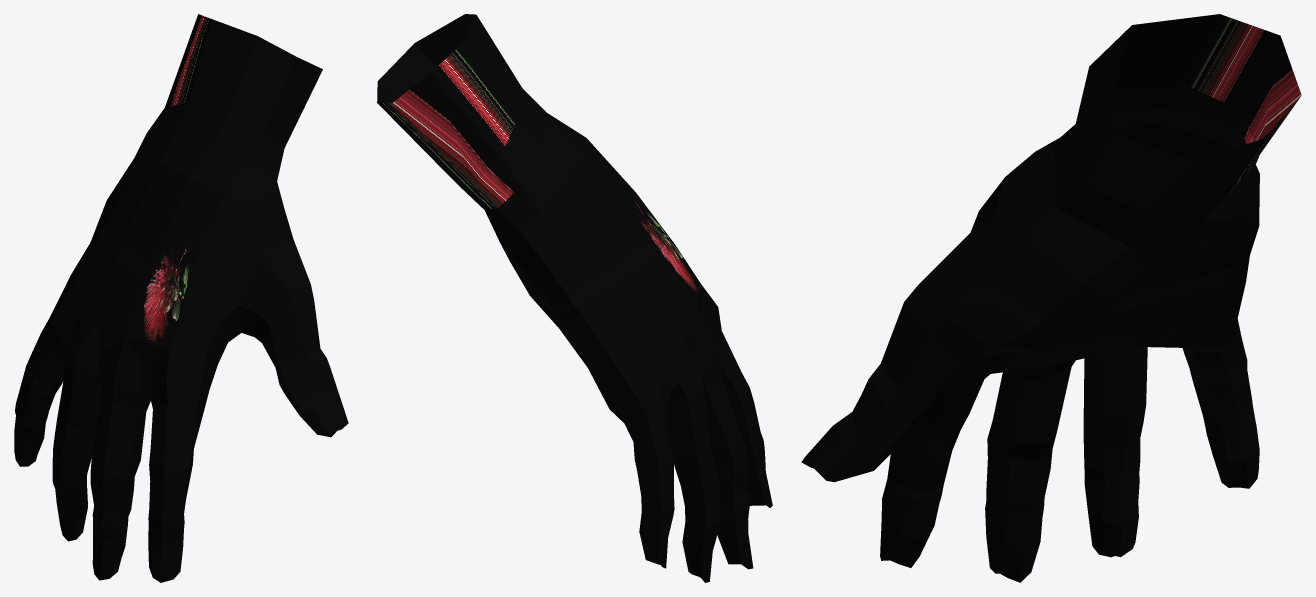
Rendered from hand.obj.
3 views of the same model, side by side, from view 1: azimuth 30°, elevation 25°; view 2: azimuth 150°, elevation 25°; view 3: azimuth 270°, elevation 25° (orthographic). The views are drawn at different scales.
Visible parts, largest first — view 1: hand; view 2: hand; view 3: hand.
Boxes of the visible parts, x1,y1,x2,y2 form: hand: (14, 14, 348, 582); hand: (377, 14, 772, 582); hand: (801, 14, 1301, 582).
Bounding box in the file's own units: 0.5812 × 0.9553 × 0.6237.
